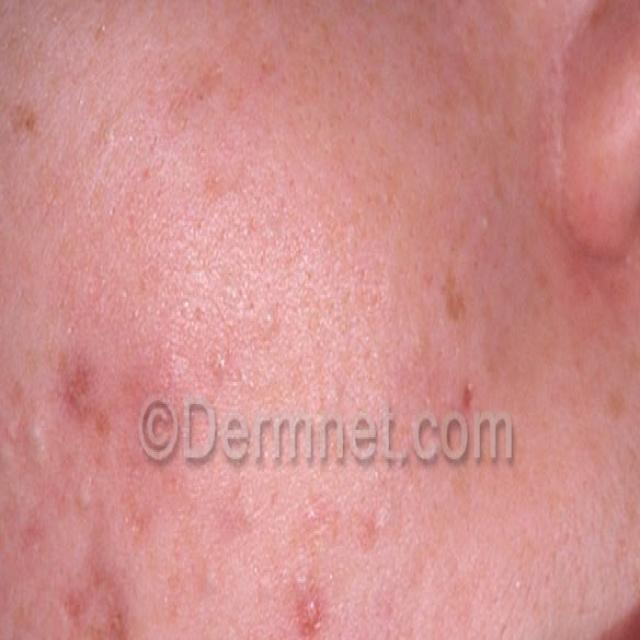Acne: (48, 312, 127, 487), (430, 171, 497, 348), (53, 553, 155, 640), (278, 553, 348, 640), (131, 417, 189, 512), (0, 22, 24, 236), (363, 489, 397, 586)
